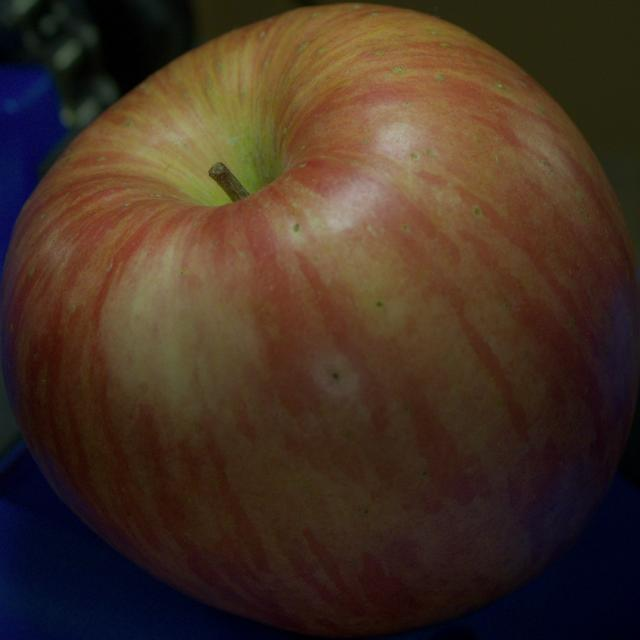apple: (0, 2, 639, 635)
